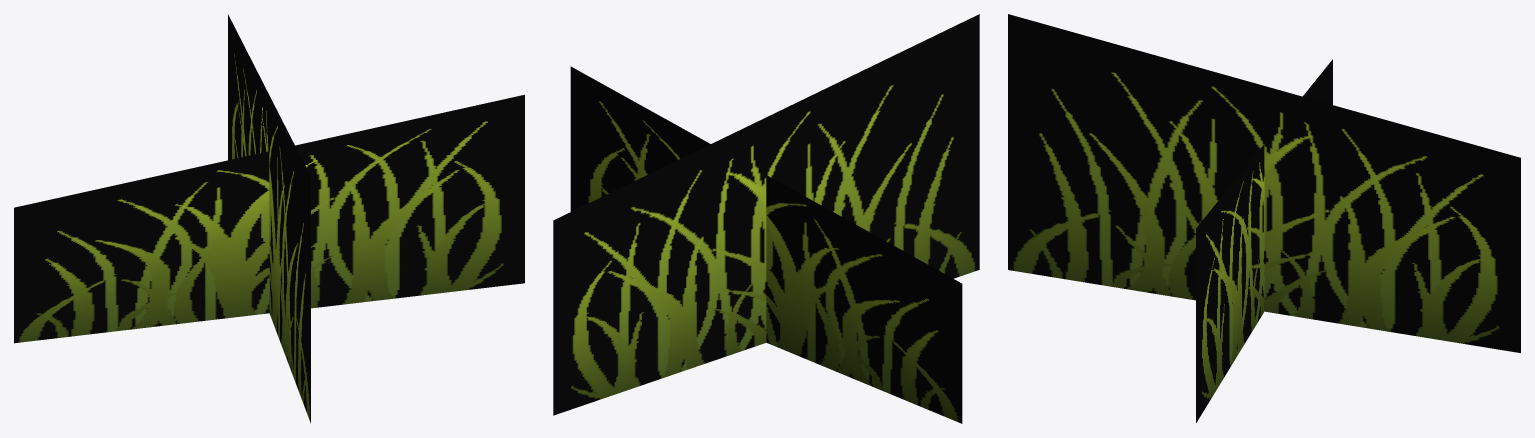
Rendered from Grass4.glb.
The picture shows the model from 3 angles, left to right: view 1: azimuth 30°, elevation 25°; view 2: azimuth 150°, elevation 25°; view 3: azimuth 270°, elevation 25°; orthographic projection. The views are drawn at different scales.
Parts seen in each view (by area): view 1: Type_1_Grass_1_LOD0; view 2: Type_1_Grass_1_LOD0; view 3: Type_1_Grass_1_LOD0.
Boxes of the visible parts, x1,y1,x2,y2 form: Type_1_Grass_1_LOD0: [14, 14, 524, 423]; Type_1_Grass_1_LOD0: [553, 14, 979, 423]; Type_1_Grass_1_LOD0: [1008, 14, 1520, 422].
Size of the model in its own units: 1.04 by 0.5545 by 1.01.
Materials: 1 (1 with a texture image).
